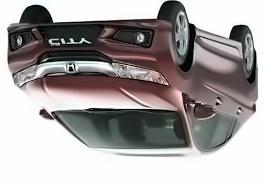Car hood: (18, 74, 178, 110)
Driver-s door - -F-R-: (191, 34, 223, 153)
Fender - -F-R-: (156, 26, 200, 113)
Fender - -R-R-: (242, 46, 256, 108)
Front bumper: (2, 18, 174, 67)
Headlight - -L-: (10, 60, 44, 90)
Headlight - -R-: (110, 60, 171, 89)
Passenger-s door - -R-R-: (212, 40, 246, 154)
Rear bumper: (250, 48, 262, 81)
Rear light - -R-: (251, 98, 262, 118)
Side bumper - -R-: (190, 20, 245, 53)
Side mirror - -L-: (35, 107, 57, 122)
Side mirror - -R-: (191, 102, 218, 123)
